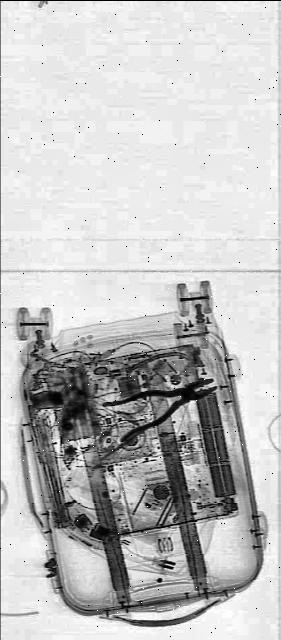Pliers: (102, 352, 218, 450)
